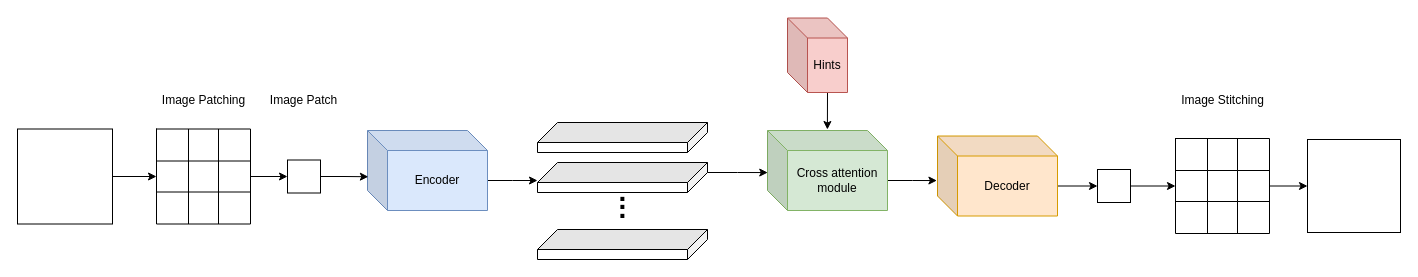
Some shapes in this 1418 by 277 pixel diagram are drawn without their labels. The box of each missing label's shape, as (x1, y1, x2, y2) in pixels:
Degraded Image: (16, 128, 112, 224)
Sharp Image: (1306, 138, 1400, 232)
